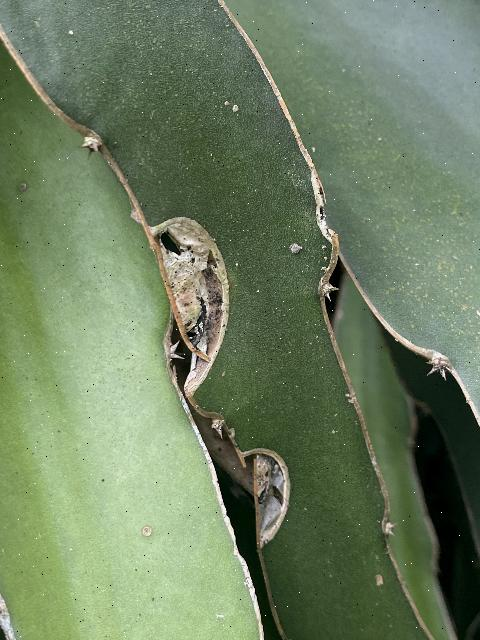stemcanker: (144, 210, 242, 417), (237, 444, 300, 557)
